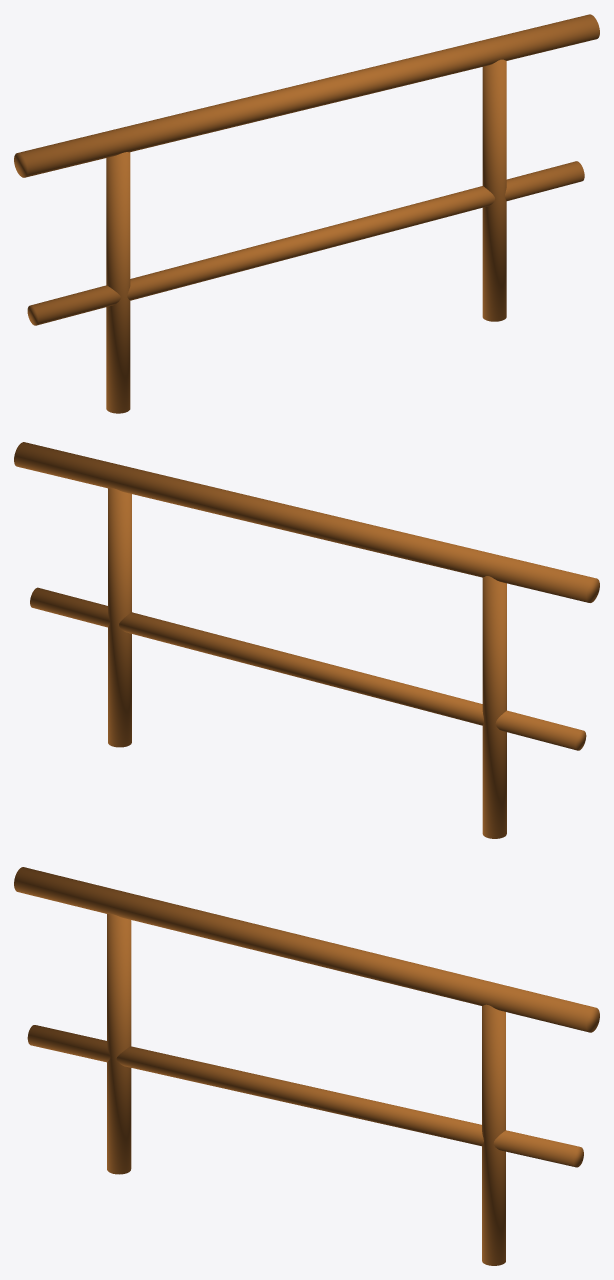
The model's file is fence.fbx.
3 views of the same model, one above another, from view 1: azimuth 30°, elevation 25°; view 2: azimuth 150°, elevation 25°; view 3: azimuth 330°, elevation 25° (orthographic).
Visible parts, largest first — view 1: Fence; view 2: Fence; view 3: Fence.
Boxes of the visible parts, x1,y1,x2,y2 form: Fence: [14, 14, 599, 413]; Fence: [14, 442, 599, 838]; Fence: [14, 867, 599, 1265].
Size of the model in its own units: 274 by 127 by 12.37.
